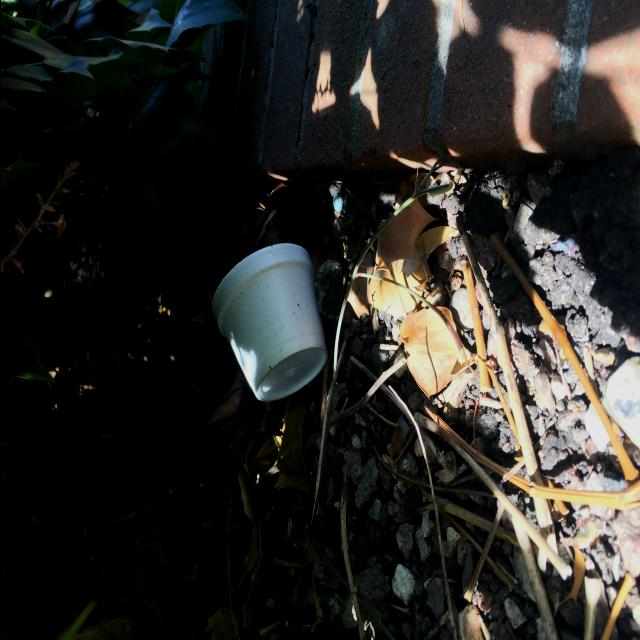Foam cup: (211, 243, 327, 401)
